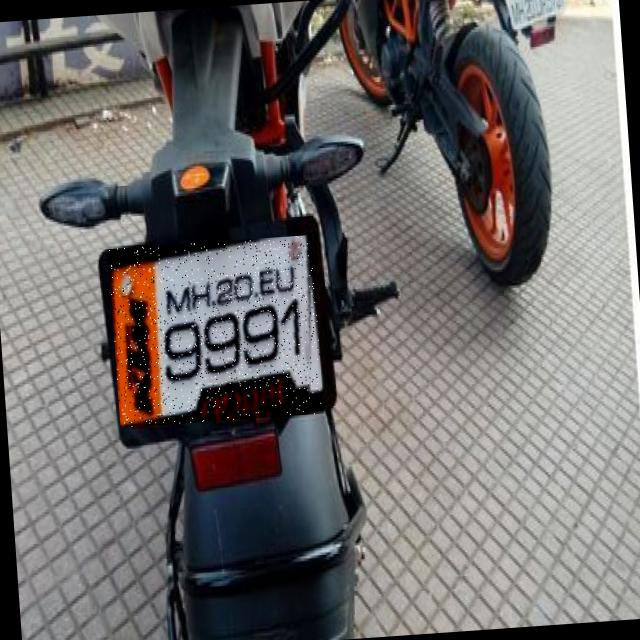Plate: (109, 236, 325, 429)
